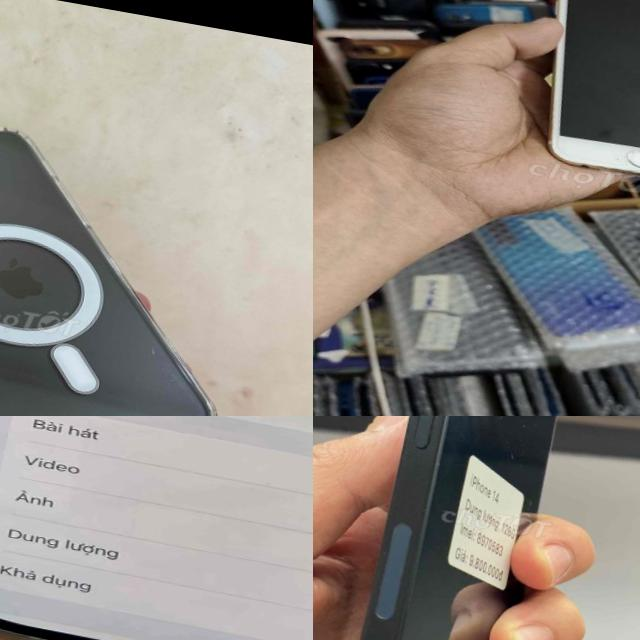scratch: (489, 416, 565, 510)
